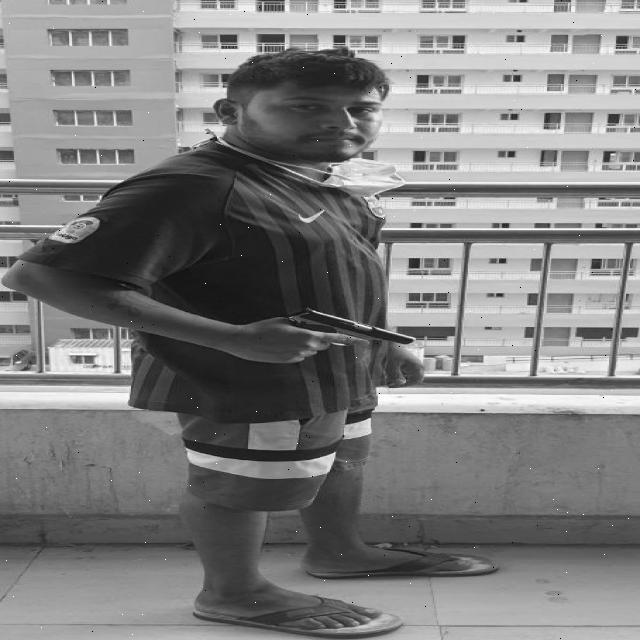gun: (203, 292, 447, 384)
